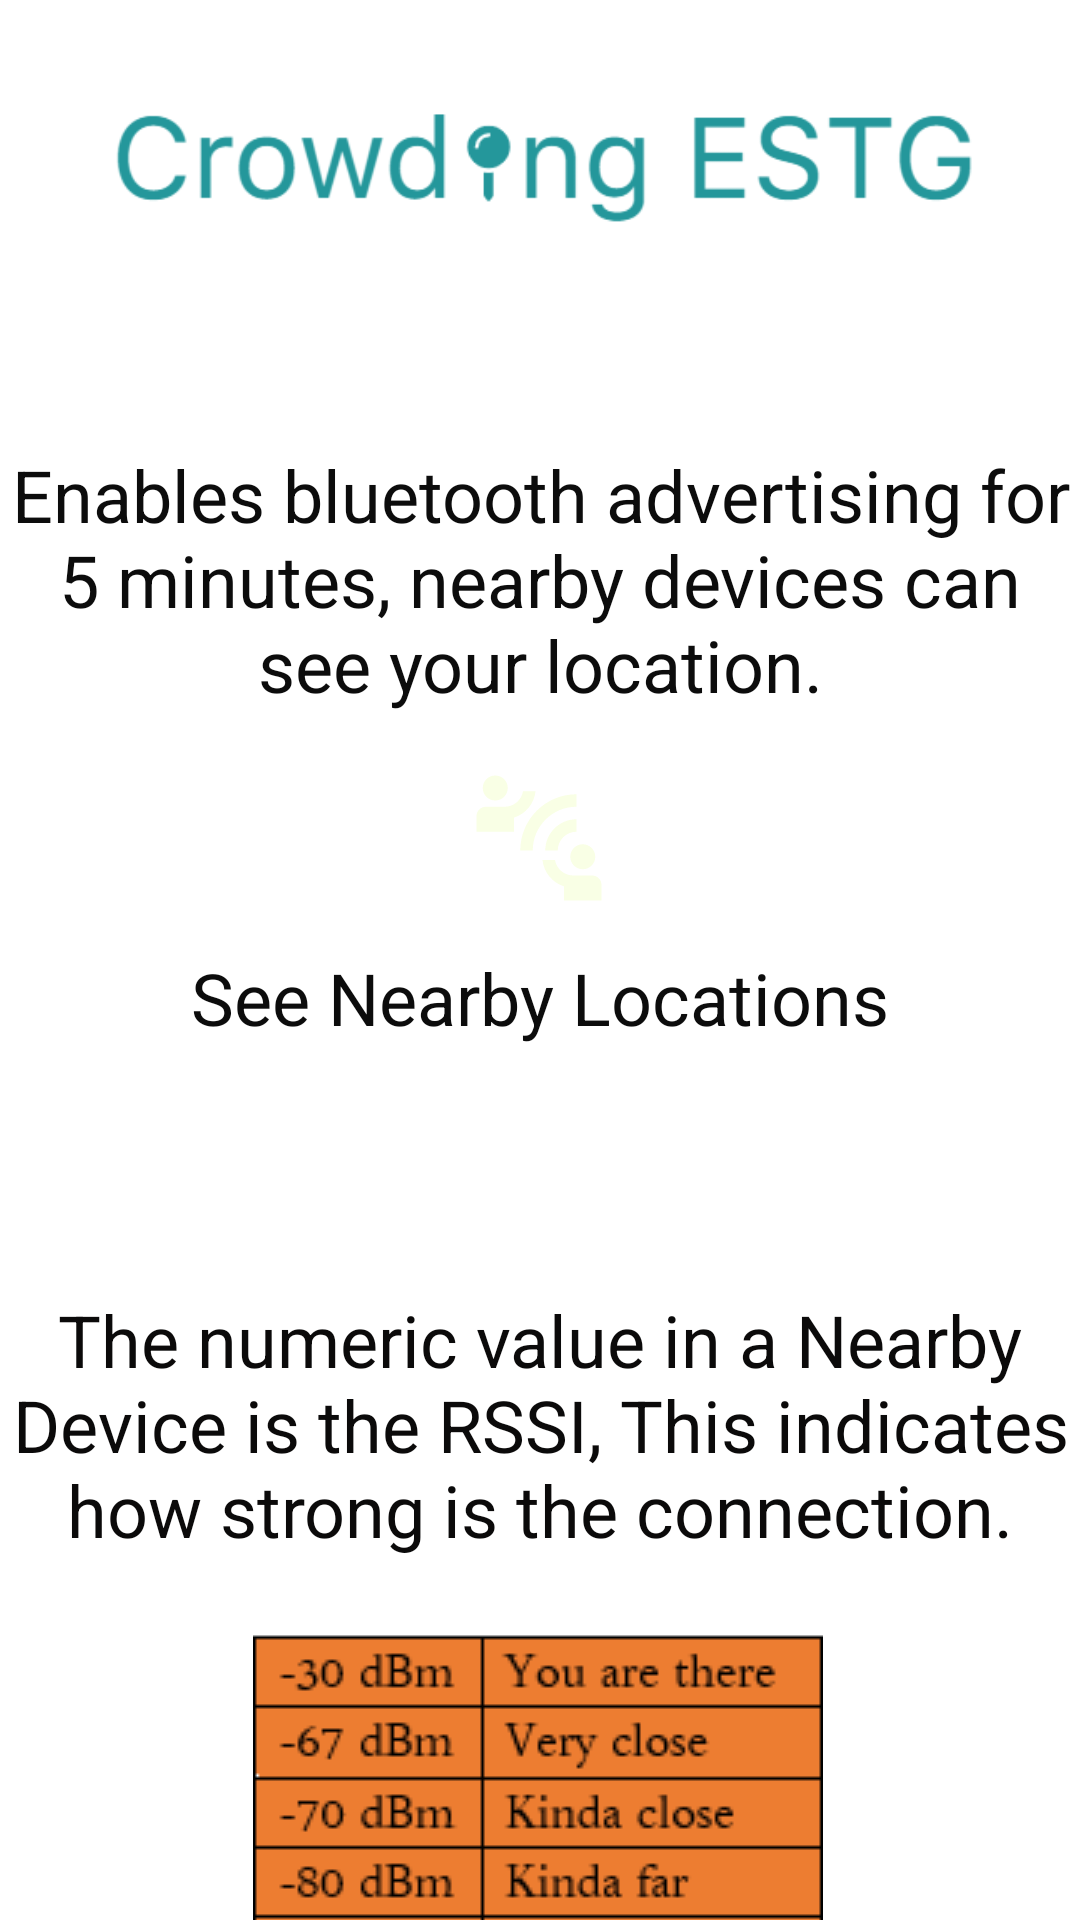

Screen size 1080 x 1920. Icon name, then its box in pixels as (x1, y1, x2, y2):
connect without contact: (477, 776, 601, 900)
